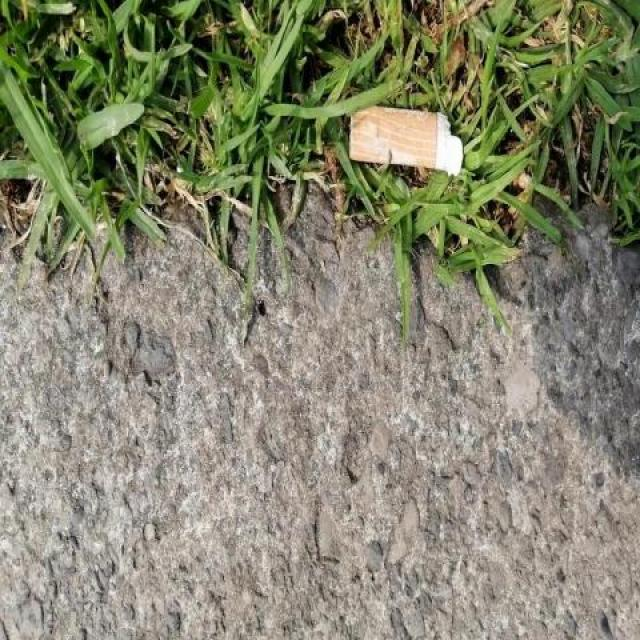non-organic waste: (345, 100, 467, 180)
